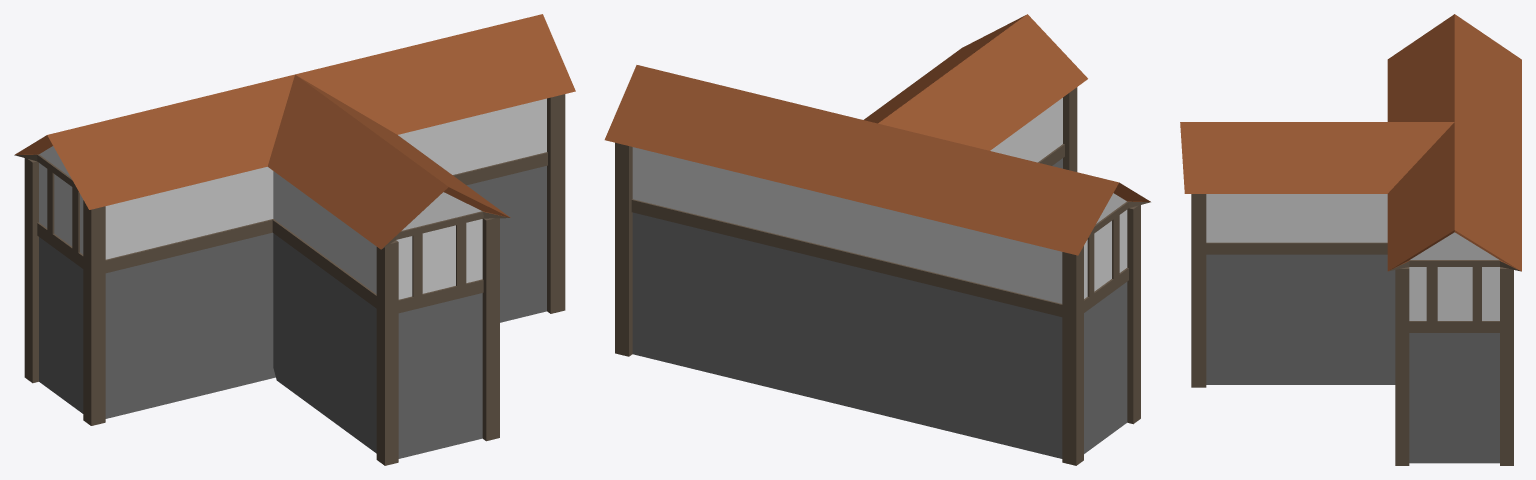
Rendered from Building base3.fbx.
The picture shows the model from 3 angles, left to right: view 1: azimuth 30°, elevation 25°; view 2: azimuth 150°, elevation 25°; view 3: azimuth 270°, elevation 25°; orthographic projection. The views are drawn at different scales.
Parts seen in each view (by area): view 1: Cube; view 2: Cube; view 3: Cube.
Boxes of the visible parts, box(x1,y1,x2,y2) form: Cube: box(14, 14, 575, 465); Cube: box(604, 14, 1150, 465); Cube: box(1180, 14, 1521, 465).
Bounding box in the file's own units: 862 × 448 × 576.
